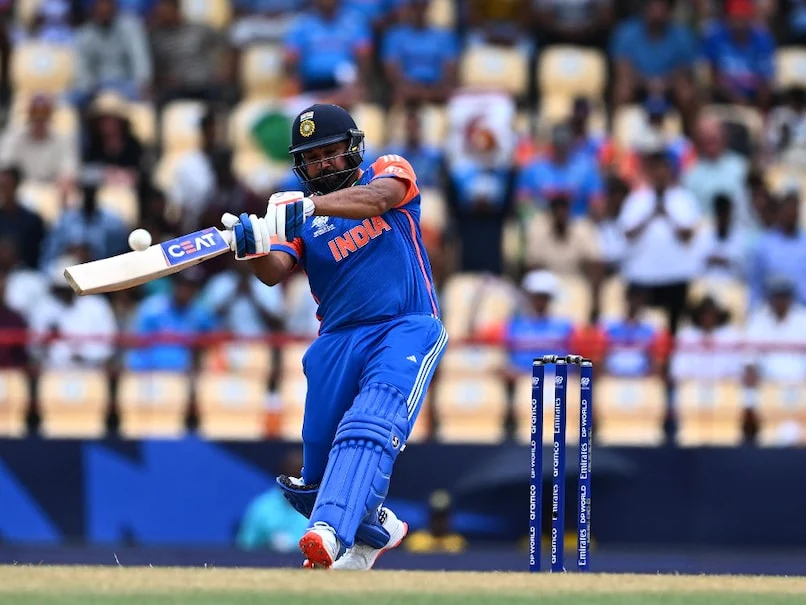Pullshot: (34, 1, 618, 605)
